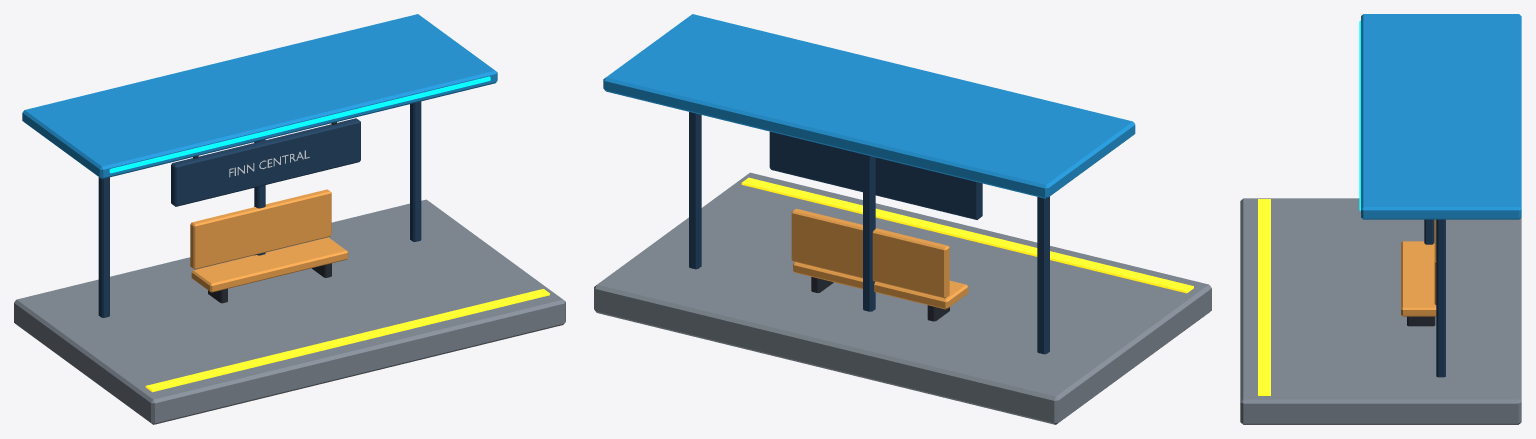
File: station_a.glb
3 renders of one model, left to right at view 1: azimuth 30°, elevation 25°; view 2: azimuth 150°, elevation 25°; view 3: azimuth 270°, elevation 25°, orthographic. The views are drawn at different scales.
Visible parts, largest first — view 1: Station_Platform, Station_Canopy, Station_NameBoard, Station_BenchBack, Station_BenchSeat, Station_SafetyLine, Station_CanopyAccent, Station_Pillar_-4.5, Station_Pillar_4.5; view 2: Station_Platform, Station_Canopy, Station_BenchBack, Station_NameBoard, Station_SafetyLine, Station_Pillar_-4.5, Station_Pillar_4.5, Station_BenchSeat, Station_Pillar_0; view 3: Station_Platform, Station_Canopy, Station_BenchSeat, Station_SafetyLine, Station_Pillar_4.5, Station_CanopyAccent, Station_BenchLeg_1.5, Station_NameBoard.
Boxes of the visible parts, <box> form: Station_Platform: <box>14,199,565,424</box>; Station_Canopy: <box>22,14,497,179</box>; Station_NameBoard: <box>171,118,360,206</box>; Station_BenchBack: <box>190,189,331,269</box>; Station_BenchSeat: <box>191,237,348,292</box>; Station_SafetyLine: <box>145,289,549,392</box>; Station_CanopyAccent: <box>109,76,490,173</box>; Station_Pillar_-4.5: <box>98,177,109,317</box>; Station_Pillar_4.5: <box>410,101,421,241</box>; Station_Platform: <box>594,172,1211,424</box>; Station_Canopy: <box>603,14,1135,198</box>; Station_BenchBack: <box>791,208,949,298</box>; Station_NameBoard: <box>769,131,982,219</box>; Station_SafetyLine: <box>741,177,1193,293</box>; Station_Pillar_-4.5: <box>1037,196,1049,354</box>; Station_Pillar_4.5: <box>689,112,701,269</box>; Station_BenchSeat: <box>793,262,968,309</box>; Station_Pillar_0: <box>863,154,875,311</box>; Station_Platform: <box>1240,198,1521,424</box>; Station_Canopy: <box>1361,14,1521,219</box>; Station_BenchSeat: <box>1401,241,1436,316</box>; Station_SafetyLine: <box>1258,199,1270,395</box>; Station_Pillar_4.5: <box>1436,219,1445,377</box>; Station_CanopyAccent: <box>1359,20,1360,210</box>; Station_BenchLeg_1.5: <box>1407,316,1435,326</box>; Station_NameBoard: <box>1424,219,1434,244</box>.
Bounding box in the file's own units: 12 × 5.87 × 7.
